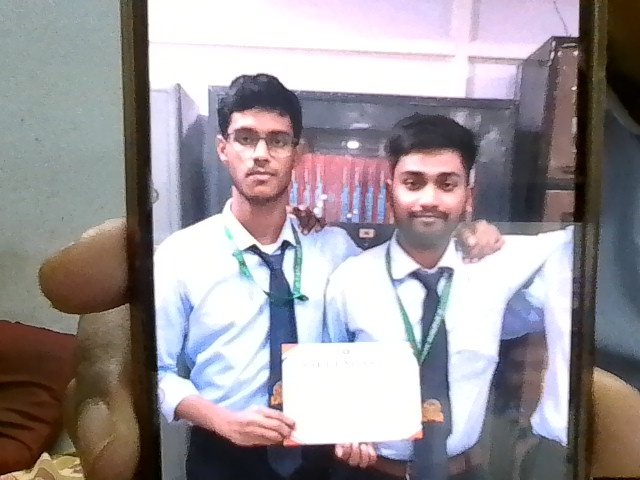real: (210, 70, 314, 217)
